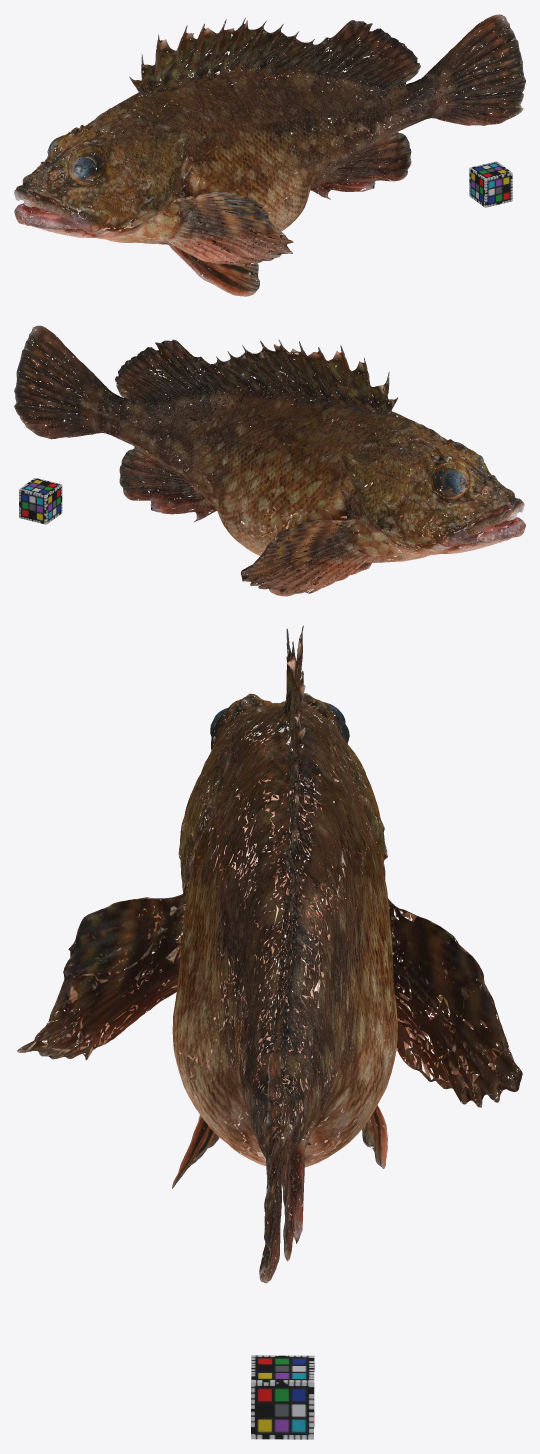
Rendered from scan_rock_kasago.glb.
3 views of the same model, one above another, from view 1: azimuth 30°, elevation 25°; view 2: azimuth 150°, elevation 25°; view 3: azimuth 270°, elevation 25° (orthographic). The views are drawn at different scales.
Visible parts, largest first — view 1: Object_6, Object_12, Object_4; view 2: Object_12, Object_6, Object_4; view 3: Object_12, Object_6, Object_4.
Part boxes in pixels (x1,y1,x2,y2): Object_6: (14, 15, 525, 296); Object_12: (14, 14, 525, 296); Object_4: (469, 161, 512, 207); Object_12: (14, 325, 524, 596); Object_6: (14, 326, 525, 594); Object_4: (19, 478, 62, 524); Object_12: (17, 625, 521, 1283); Object_6: (18, 628, 522, 1282); Object_4: (251, 1355, 314, 1439).
Bounding box in the file's own units: 11.46 × 5.55 × 4.95.
Materials: 3 (3 with a texture image).
